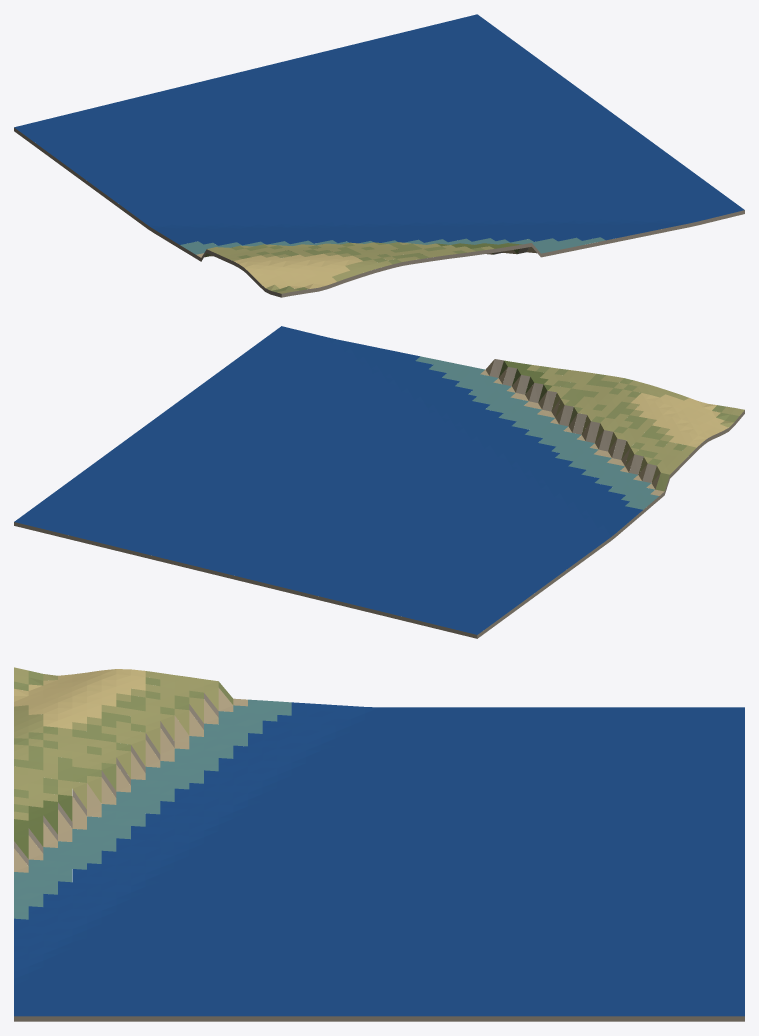
The model's file is parca_+13_-1-uzak.glb.
3 renders of one model, top to bottom at view 1: azimuth 30°, elevation 25°; view 2: azimuth 150°, elevation 25°; view 3: azimuth 270°, elevation 25°, orthographic. The views are drawn at different scales.
Visible parts, largest first — view 1: parca_+13_-1_arazi_uzak; view 2: parca_+13_-1_arazi_uzak; view 3: parca_+13_-1_arazi_uzak.
Boxes of the visible parts, box(x1,y1,x2,y2) form: parca_+13_-1_arazi_uzak: box(14, 14, 744, 297); parca_+13_-1_arazi_uzak: box(14, 326, 744, 638); parca_+13_-1_arazi_uzak: box(14, 667, 744, 1021).
Size of the model in its own units: 1000 by 73.32 by 1000.
